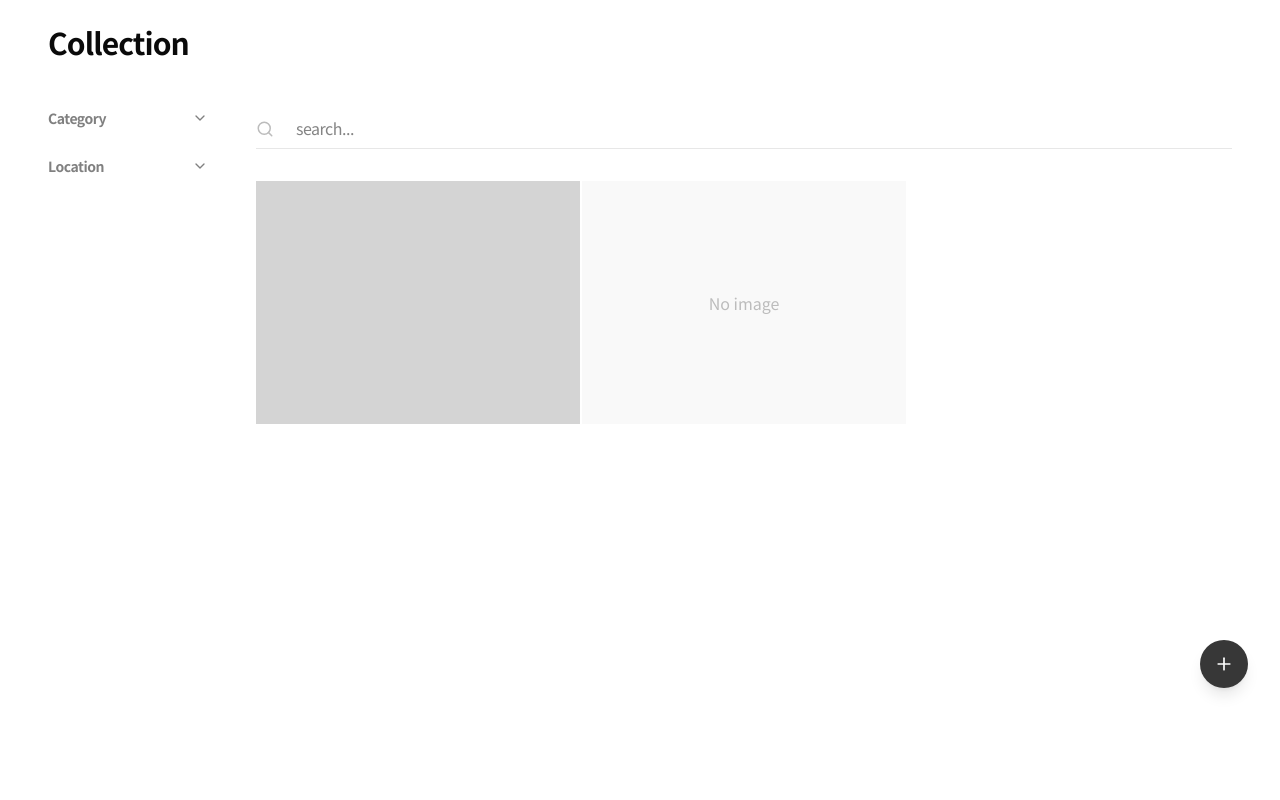
Test case: FurnitureListClient › 検索機能 › ブランド名でもフィルターされる
Type "無印" into the field with placeholder "search..." at point(744, 128), box [256,108,1232,149]
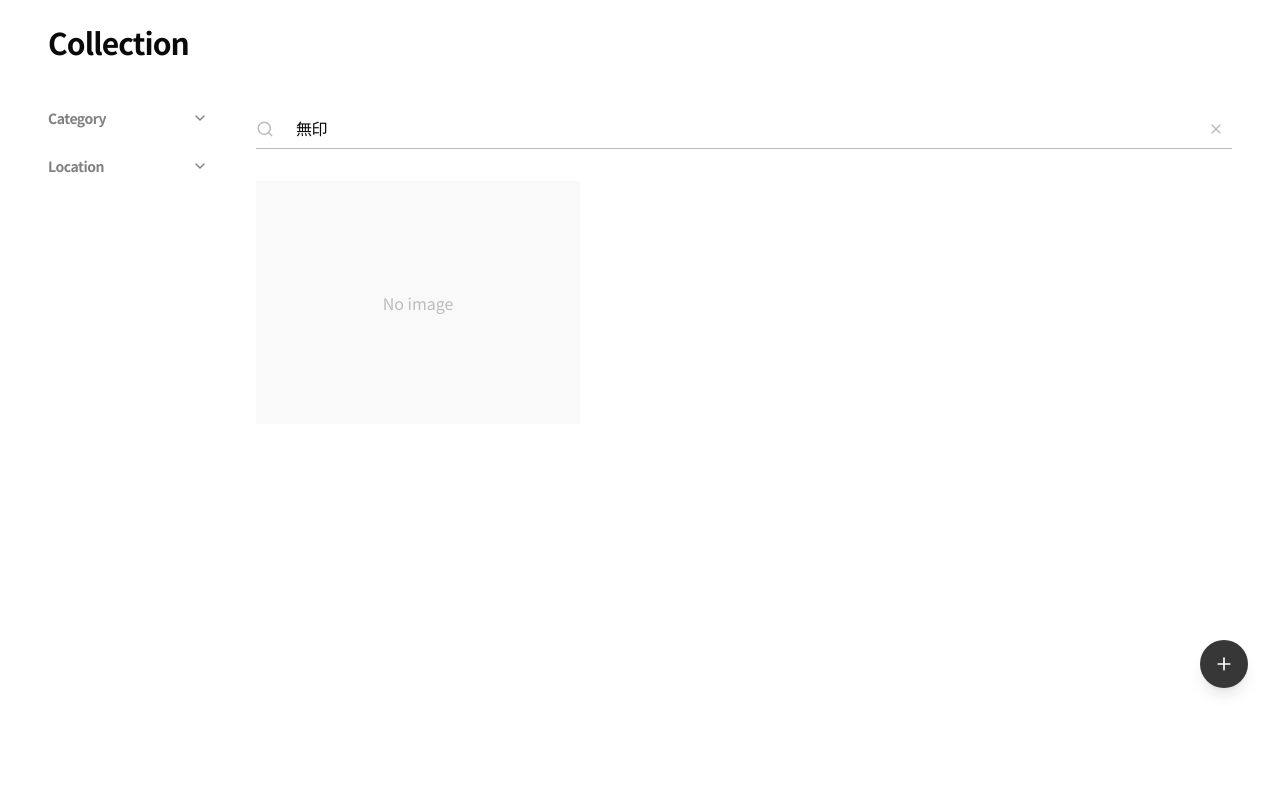
Result: the picture "チェアA" is gone
